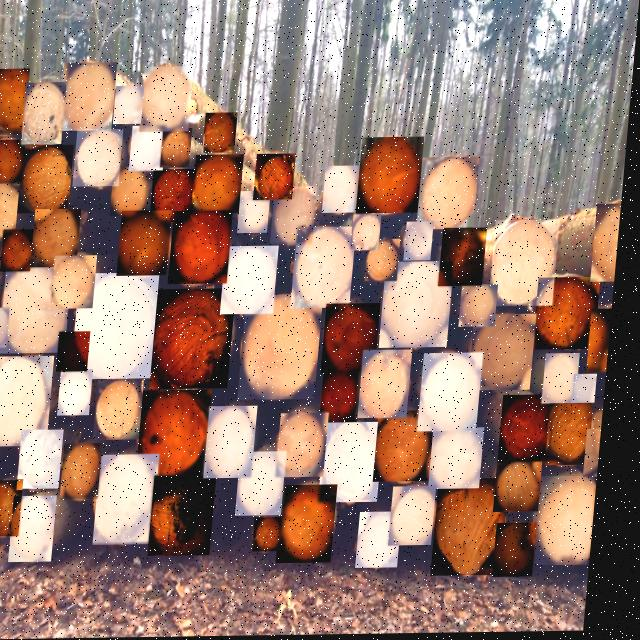wood-log: (78, 273, 165, 380), (245, 295, 329, 401), (157, 289, 242, 390), (441, 480, 518, 577), (144, 390, 220, 480), (385, 262, 459, 349), (5, 265, 77, 354), (494, 221, 564, 308), (103, 455, 168, 546), (540, 478, 604, 567), (0, 356, 61, 447), (158, 476, 226, 557), (296, 228, 361, 309), (327, 423, 392, 504), (475, 315, 542, 392), (360, 138, 427, 215), (425, 354, 490, 433), (539, 279, 606, 352), (286, 486, 347, 564), (173, 211, 237, 285), (420, 158, 483, 231), (382, 411, 443, 483), (327, 304, 387, 375), (61, 63, 119, 131), (226, 247, 284, 315), (21, 145, 77, 214), (213, 407, 266, 479), (506, 396, 562, 464), (365, 351, 419, 419), (122, 211, 177, 276), (437, 429, 493, 491), (142, 67, 195, 132), (284, 414, 337, 478), (554, 399, 602, 467), (245, 452, 295, 517), (195, 155, 247, 215), (19, 496, 66, 562), (101, 380, 151, 440), (35, 209, 85, 268), (76, 129, 126, 187), (443, 229, 492, 288), (398, 487, 446, 547), (24, 82, 69, 145), (26, 430, 72, 491), (275, 188, 320, 246), (366, 513, 412, 569), (503, 462, 551, 514), (153, 170, 200, 223), (56, 256, 102, 309), (503, 524, 547, 579), (69, 444, 111, 500), (596, 206, 625, 284), (0, 69, 31, 136), (328, 374, 369, 424), (257, 154, 300, 201), (114, 167, 154, 216), (549, 355, 587, 405), (0, 480, 32, 537), (326, 167, 364, 214), (132, 126, 169, 171), (465, 286, 504, 328), (65, 370, 100, 416), (593, 311, 618, 374), (370, 240, 405, 282), (5, 229, 38, 272), (205, 113, 240, 153), (241, 192, 274, 234), (63, 332, 97, 372), (0, 139, 28, 186), (0, 184, 23, 240), (163, 129, 195, 168), (408, 223, 438, 262), (116, 86, 146, 125), (355, 215, 386, 252), (262, 518, 292, 553), (592, 431, 609, 479), (579, 376, 604, 405), (0, 308, 15, 348), (0, 349, 1, 408)
